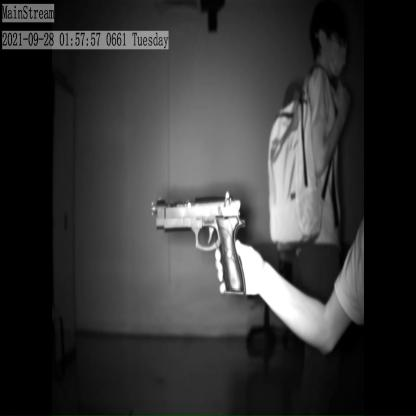weapon: (153, 190, 248, 300)
